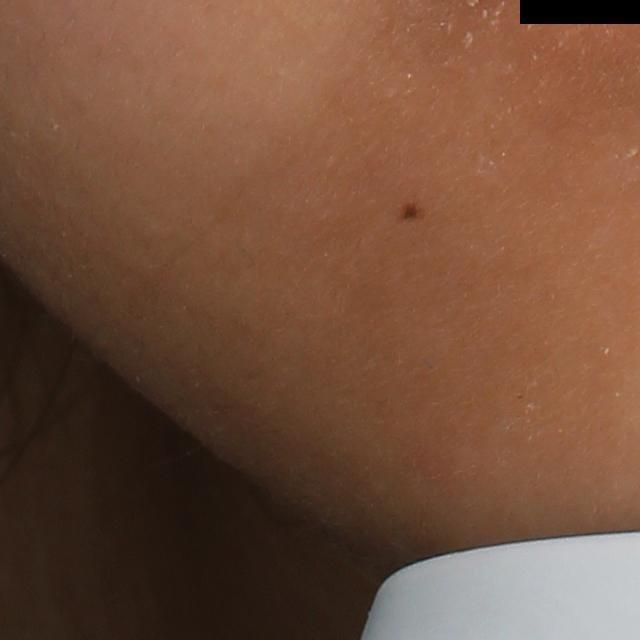nevus: (398, 191, 425, 224)
